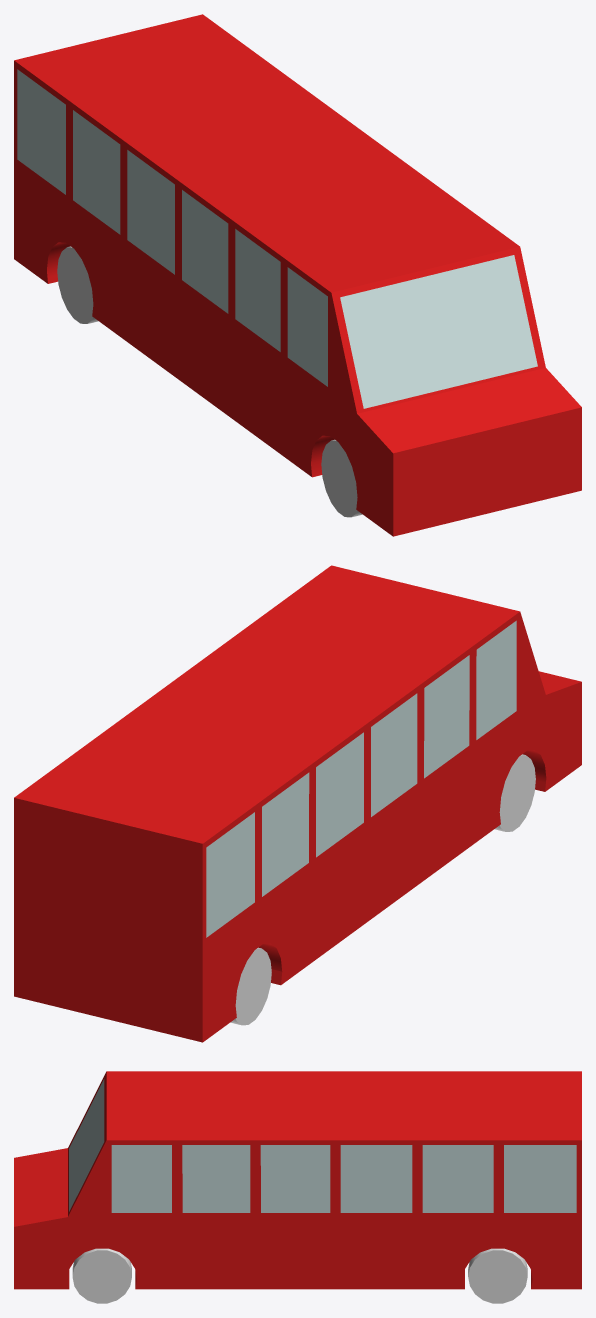
Rendered from Bus.FBX.
3 renders of one model, top to bottom at view 1: azimuth 30°, elevation 25°; view 2: azimuth 150°, elevation 25°; view 3: azimuth 270°, elevation 25°, orthographic. The views are drawn at different scales.
Visible parts, largest first — view 1: Cylinder002, Cylinder006, Cylinder004; view 2: Cylinder002, Cylinder004, Cylinder006; view 3: Cylinder002, Cylinder003, Cylinder005.
Boxes of the visible parts, x1=… form: Cylinder002: x1=14, y1=14, x2=581, y2=536; Cylinder006: x1=321, y1=439, x2=362, y2=517; Cylinder004: x1=57, y1=246, x2=98, y2=323; Cylinder002: x1=14, y1=565, x2=581, y2=1042; Cylinder004: x1=230, y1=947, x2=271, y2=1025; Cylinder006: x1=494, y1=754, x2=535, y2=831; Cylinder002: x1=14, y1=1071, x2=581, y2=1289; Cylinder003: x1=468, y1=1248, x2=527, y2=1303; Cylinder005: x1=72, y1=1248, x2=131, y2=1303.
Bounding box in the file's own units: 60.33 × 67.6 × 210.
